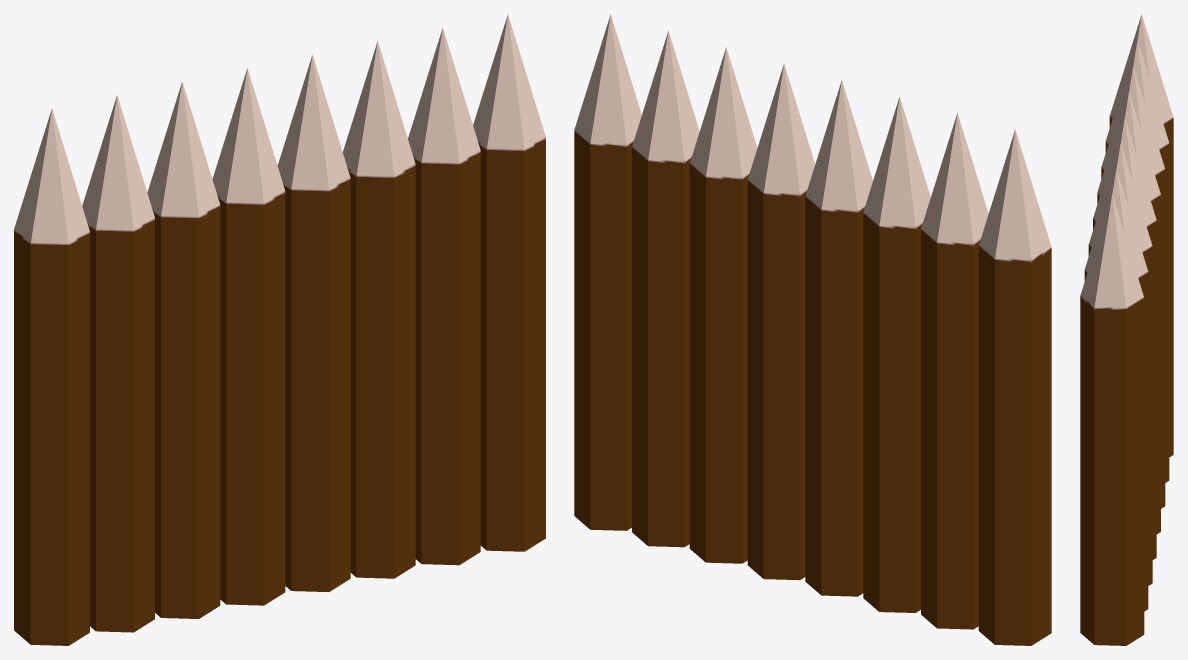
The model's file is Barricade.fbx.
The picture shows the model from 3 angles, left to right: view 1: azimuth 30°, elevation 25°; view 2: azimuth 150°, elevation 25°; view 3: azimuth 270°, elevation 25°; orthographic projection. The views are drawn at different scales.
Visible parts, largest first — view 1: Barricade.003; view 2: Barricade.003; view 3: Barricade.003.
Boxes of the visible parts, <box> form: Barricade.003: <box>14,14,545,645</box>; Barricade.003: <box>574,14,1051,645</box>; Barricade.003: <box>1080,14,1173,645</box>.
Bounding box in the file's own units: 302 × 304 × 58.3.
2 materials, 2 textured.
